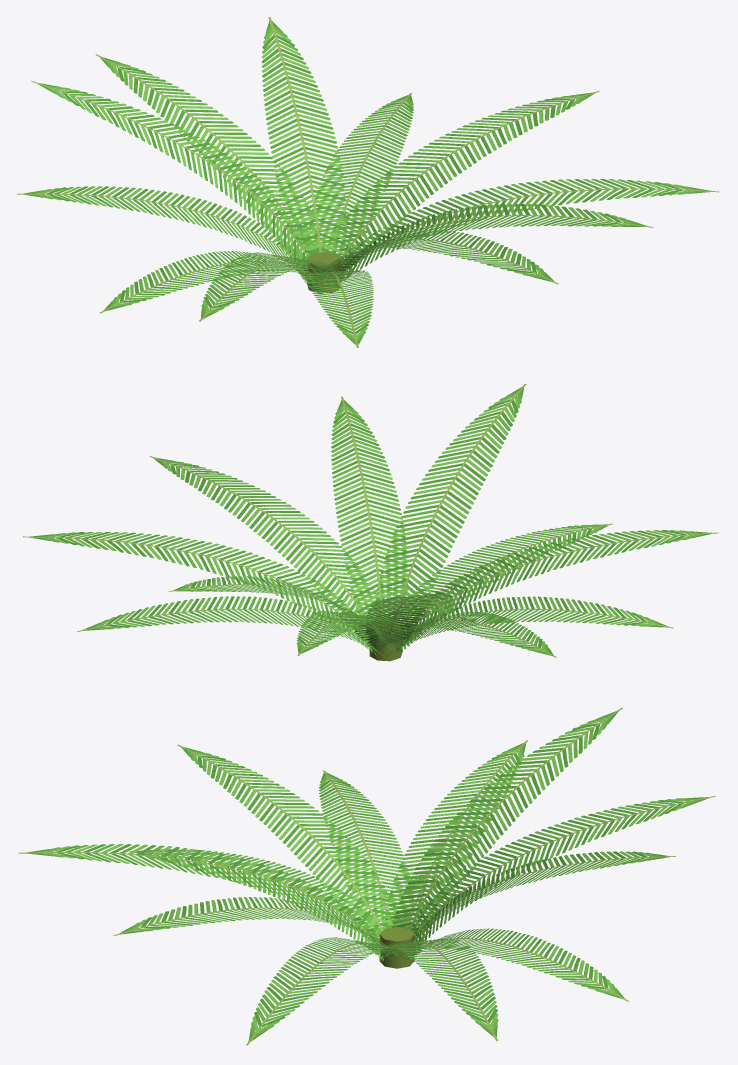
Rendered from dua_nuoc_2.glb.
3 views of the same model, one above another, from view 1: azimuth 30°, elevation 25°; view 2: azimuth 150°, elevation 25°; view 3: azimuth 270°, elevation 25° (orthographic). The views are drawn at different scales.
Visible parts, largest first — view 1: dua_nuoc_2; view 2: dua_nuoc_2; view 3: dua_nuoc_2.
Part boxes in pixels (box(x1,y1,x2,y2)): dua_nuoc_2: box(17, 17, 718, 347); dua_nuoc_2: box(23, 383, 718, 661); dua_nuoc_2: box(18, 708, 715, 1045).
Bounding box in the file's own units: 2.77 × 0.7327 × 2.84.
2 materials, 1 textured.
